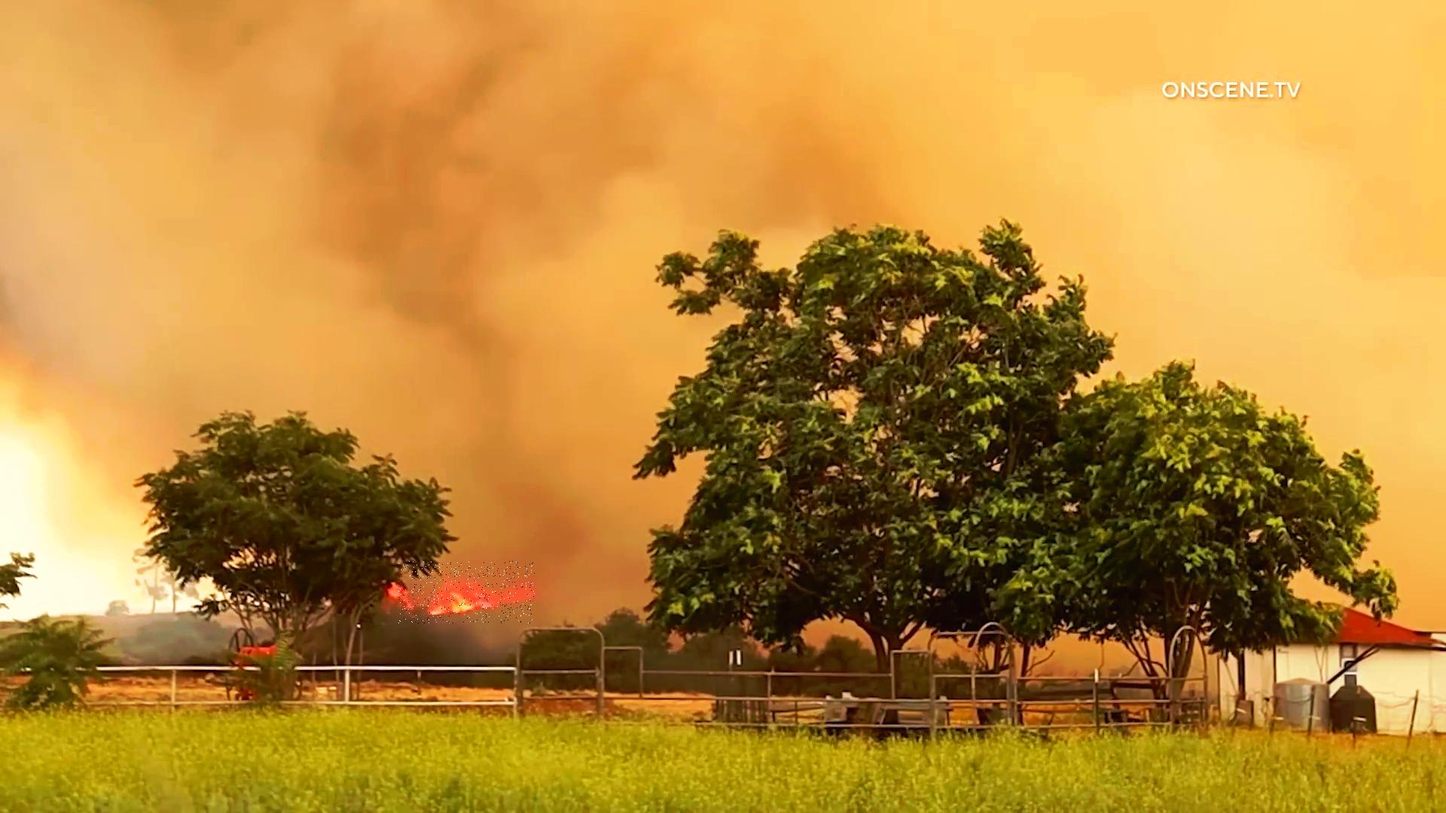fire: (399, 561, 535, 624)
